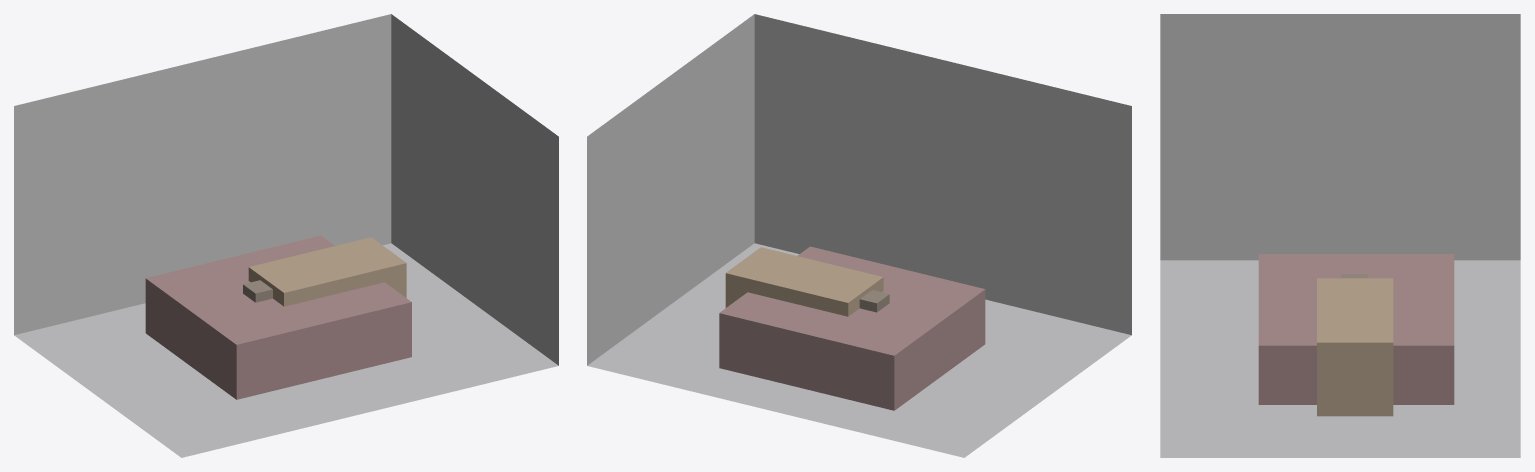
The model's file is current_layout.glb.
The picture shows the model from 3 angles, left to right: view 1: azimuth 30°, elevation 25°; view 2: azimuth 150°, elevation 25°; view 3: azimuth 270°, elevation 25°; orthographic projection. The views are drawn at different scales.
Visible parts, largest first — view 1: room, bed, desk; view 2: room, bed, desk; view 3: room, bed, desk.
Boxes of the visible parts, box(x1,y1,x2,y2) form: room: box(14, 14, 558, 457); bed: box(145, 235, 411, 399); desk: box(248, 237, 406, 306); room: box(587, 14, 1131, 457); bed: box(719, 246, 985, 410); desk: box(725, 247, 883, 316); room: box(1160, 14, 1520, 457); bed: box(1258, 254, 1454, 404); desk: box(1317, 278, 1393, 416).
Size of the model in its own units: 4.31 by 2.5 by 3.31.
